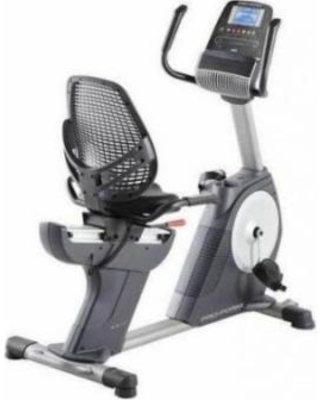gym_bike: (9, 10, 318, 394)
